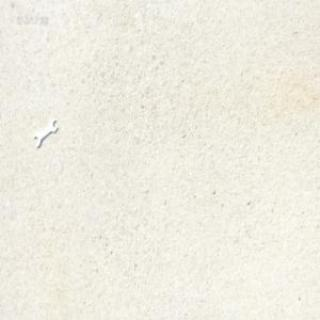Wrenchtrack_idkeyframe: (32, 114, 57, 148)
